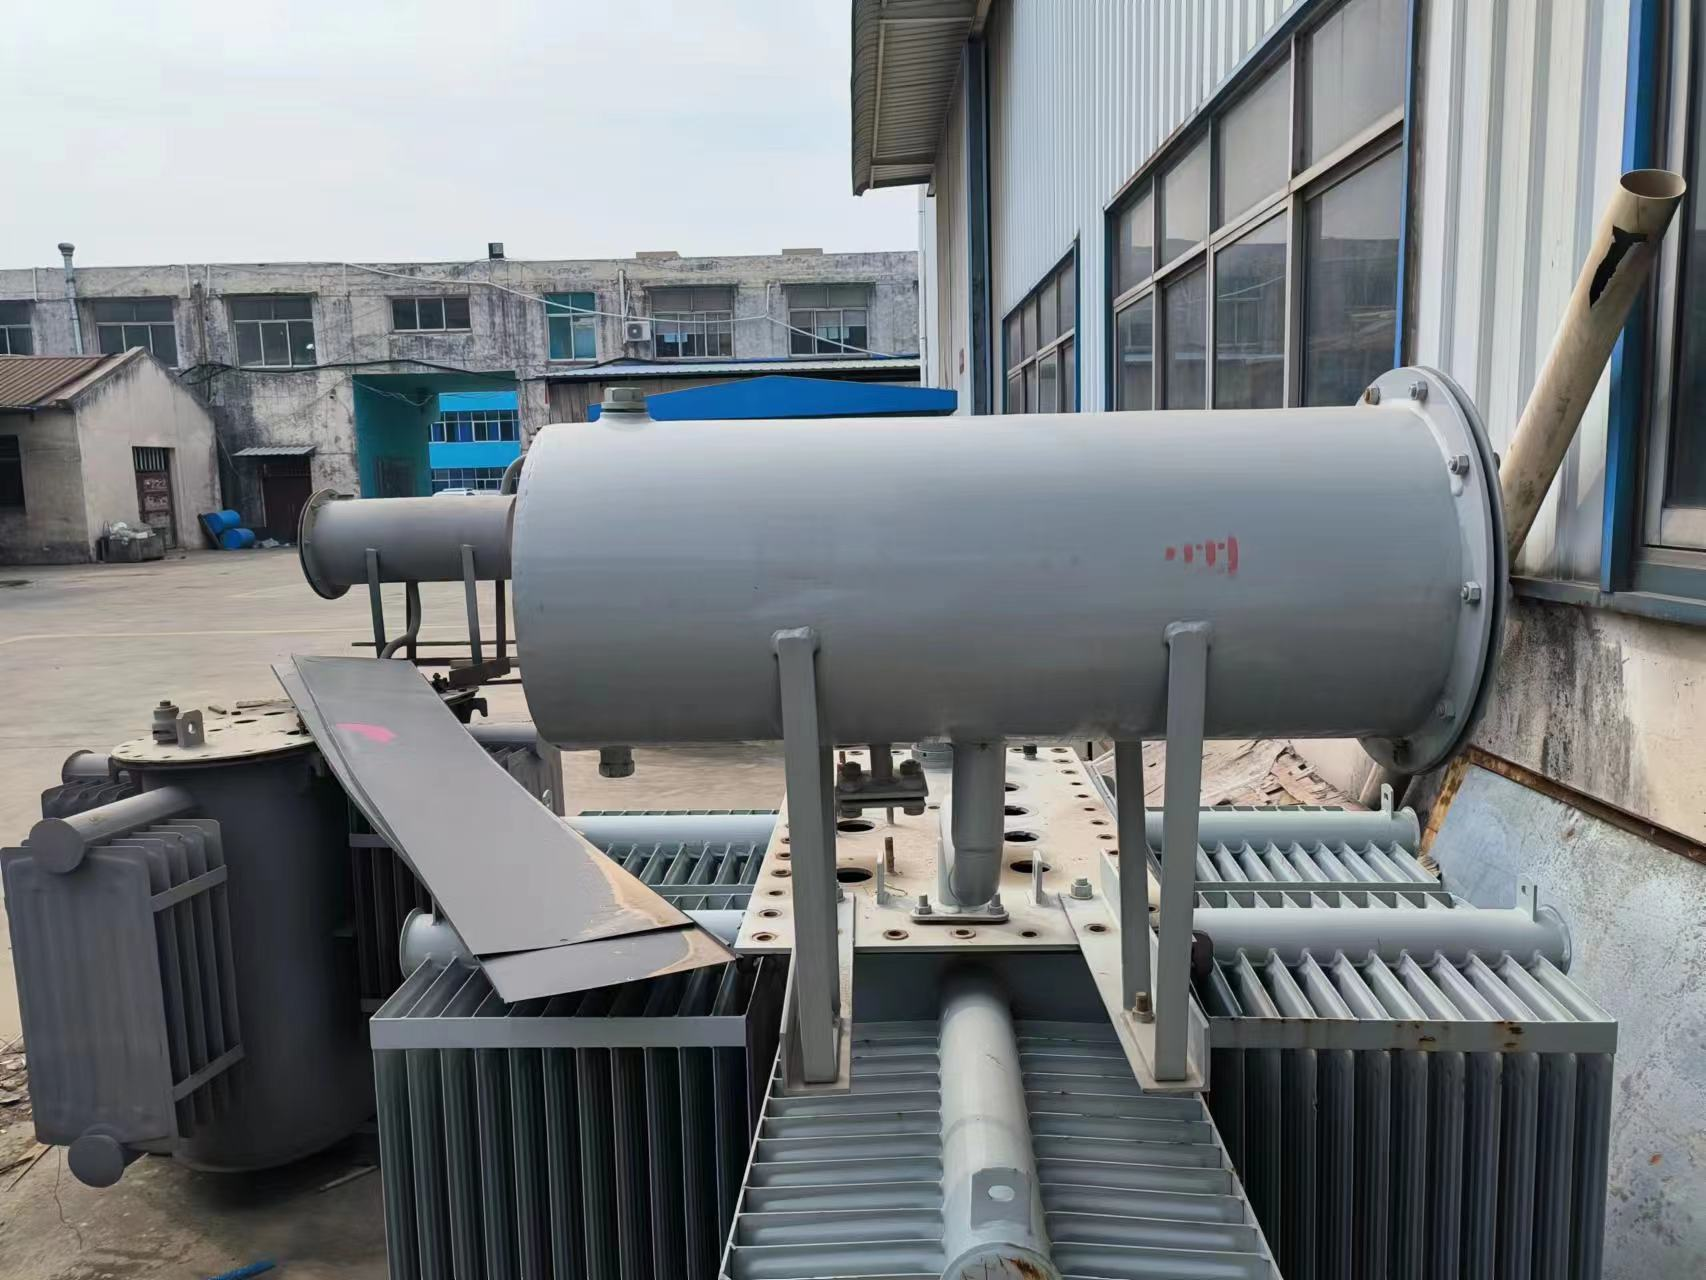Conservator: (501, 363, 1559, 1081), (284, 481, 519, 674)
